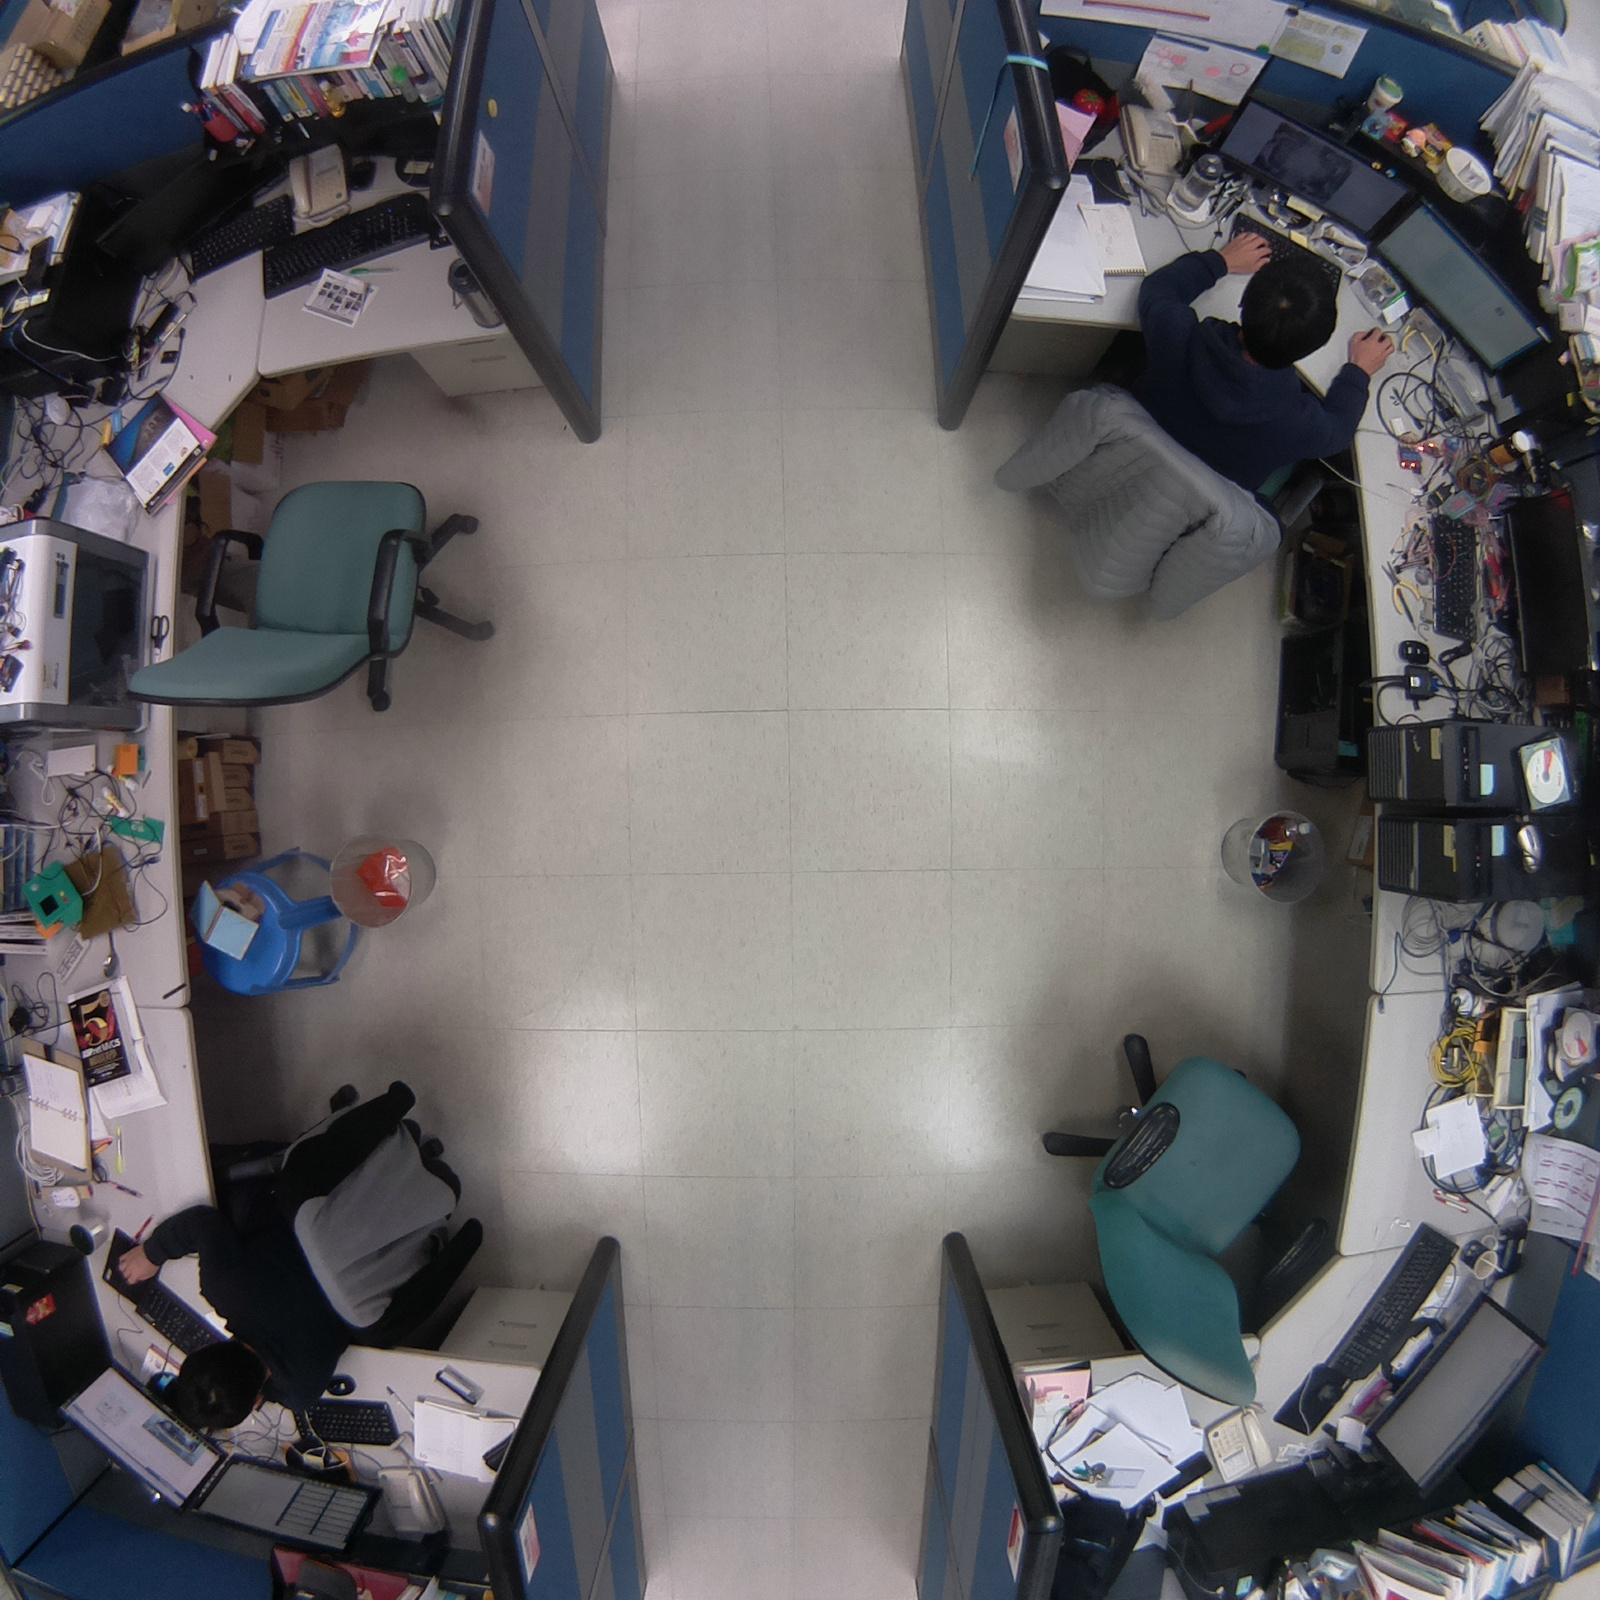chair: (106, 424, 529, 747), (1017, 1011, 1335, 1434)
head: (1232, 251, 1346, 368), (168, 1340, 272, 1436)
sitting: (970, 211, 1409, 650), (112, 1058, 514, 1440)
